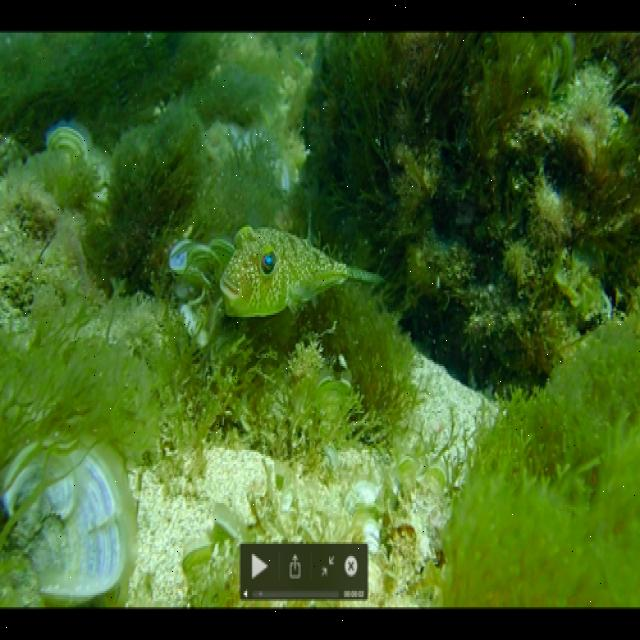Balik: (221, 227, 382, 316)
